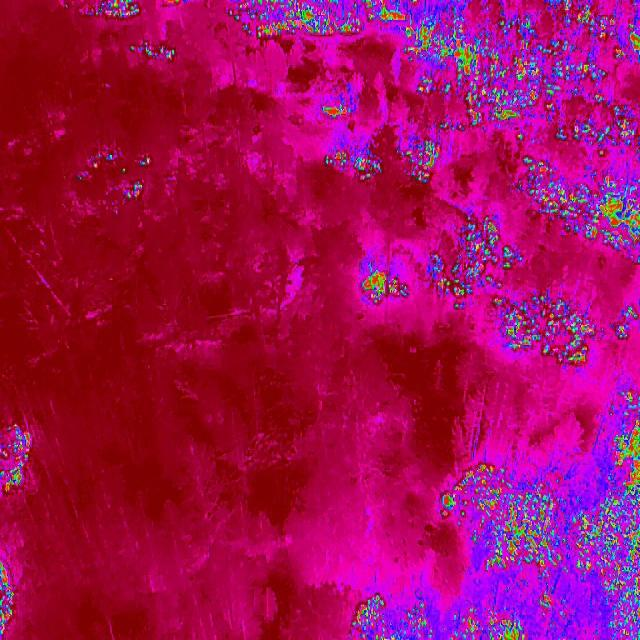fire: (400, 40, 640, 150), (438, 462, 638, 588), (225, 0, 640, 40), (353, 589, 640, 640), (516, 161, 640, 265), (491, 285, 596, 369), (430, 217, 522, 301), (70, 154, 154, 204), (0, 420, 38, 500), (604, 382, 640, 459), (324, 142, 384, 188), (355, 258, 412, 306), (403, 134, 438, 190), (318, 82, 358, 122), (71, 0, 142, 22), (132, 34, 178, 66), (0, 555, 16, 640), (614, 302, 640, 346)
